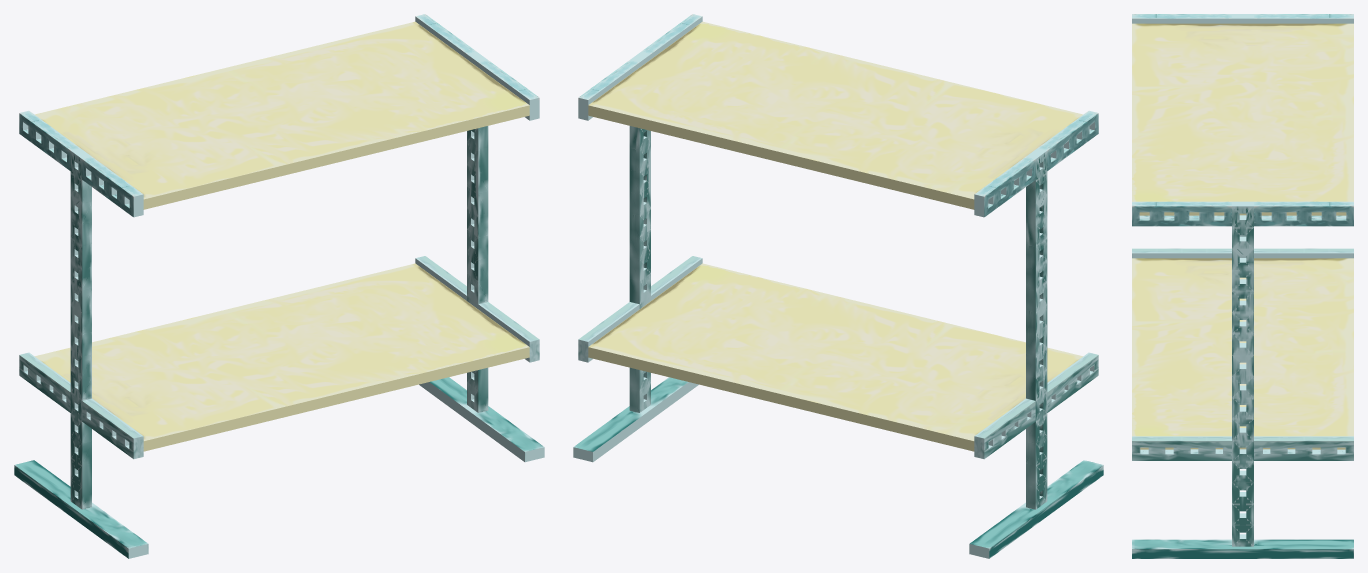
Rendered from Shelf.fbx.
3 views of the same model, side by side, from view 1: azimuth 30°, elevation 25°; view 2: azimuth 150°, elevation 25°; view 3: azimuth 270°, elevation 25° (orthographic). The views are drawn at different scales.
Visible parts, largest first — view 1: UpperShelf, MiddleShelf, SupportPillar, FloorSupport, UpperSideSupport, MiddleSideSupport; view 2: UpperShelf, MiddleShelf, SupportPillar, FloorSupport, UpperSideSupport, MiddleSideSupport; view 3: UpperShelf, MiddleShelf, SupportPillar, MiddleSideSupport, UpperSideSupport, FloorSupport.
Boxes of the visible parts, x1,y1,x2,y2 form: UpperShelf: [35, 21, 529, 209]; MiddleShelf: [35, 263, 529, 451]; SupportPillar: [70, 51, 488, 509]; FloorSupport: [14, 377, 544, 558]; UpperSideSupport: [19, 14, 539, 217]; MiddleSideSupport: [19, 256, 539, 459]; UpperShelf: [588, 21, 1082, 209]; MiddleShelf: [588, 263, 1082, 451]; SupportPillar: [629, 51, 1047, 509]; FloorSupport: [573, 377, 1103, 558]; UpperSideSupport: [578, 14, 1098, 217]; MiddleSideSupport: [578, 256, 1098, 459]; UpperShelf: [1132, 23, 1353, 215]; MiddleShelf: [1132, 258, 1353, 449]; SupportPillar: [1232, 14, 1253, 546]; MiddleSideSupport: [1132, 248, 1353, 460]; UpperSideSupport: [1132, 14, 1353, 226]; FloorSupport: [1132, 539, 1353, 558].
Size of the model in its own units: 210 by 174 by 100.
